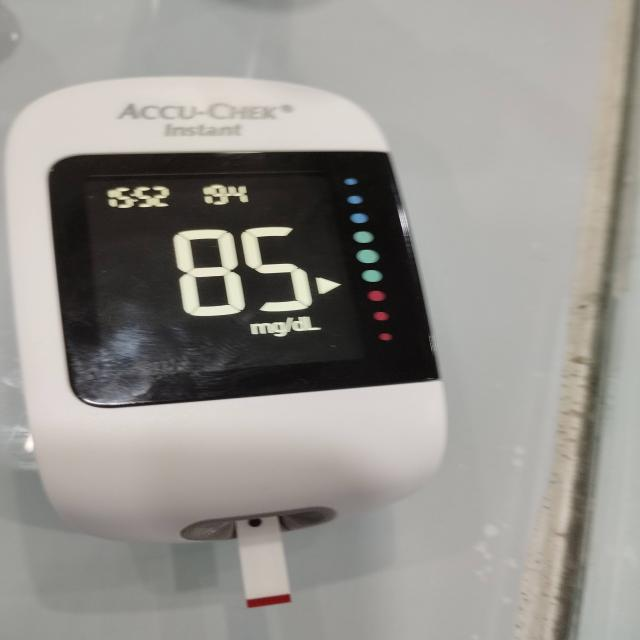gluco: (1, 77, 448, 546)
